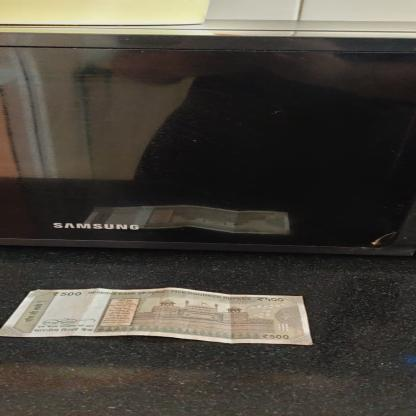New500Back: (0, 287, 317, 348)
